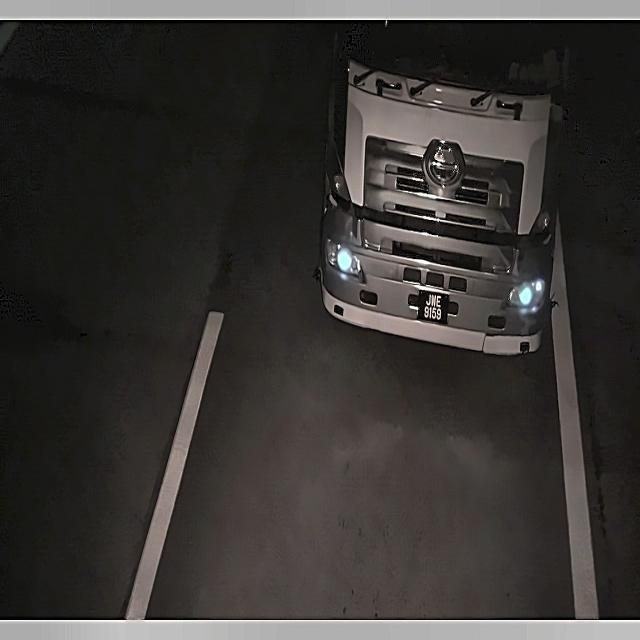car: (420, 287, 451, 331)
